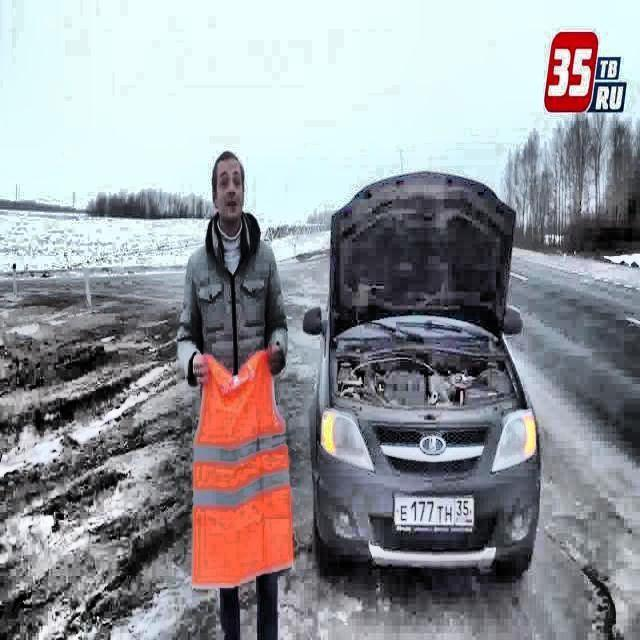safety_jacket: (190, 340, 296, 592)
